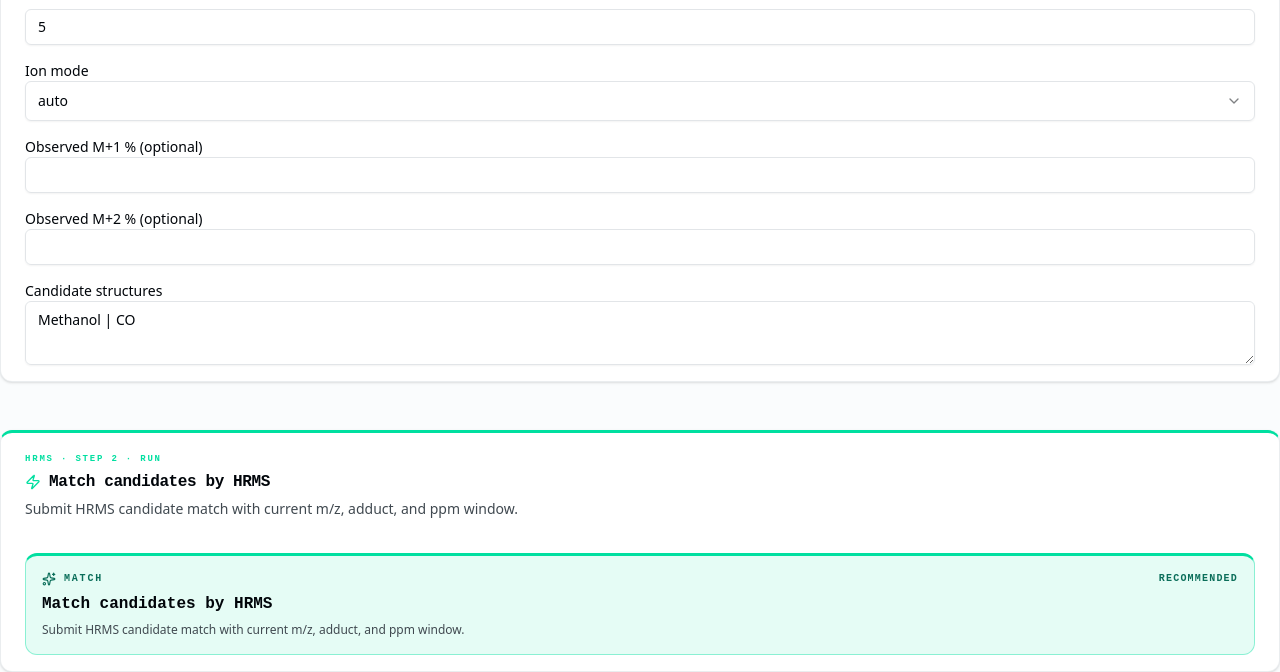
Test: SpectraCheckMsEvidence HRMS & formula › renders extended HRMS table from mocked response
(page scrolled)
Click the button "Match candidates by HRMS".
click(84, 578)  # box x1=25 y1=553 x2=1255 y2=655
(page scrolled)
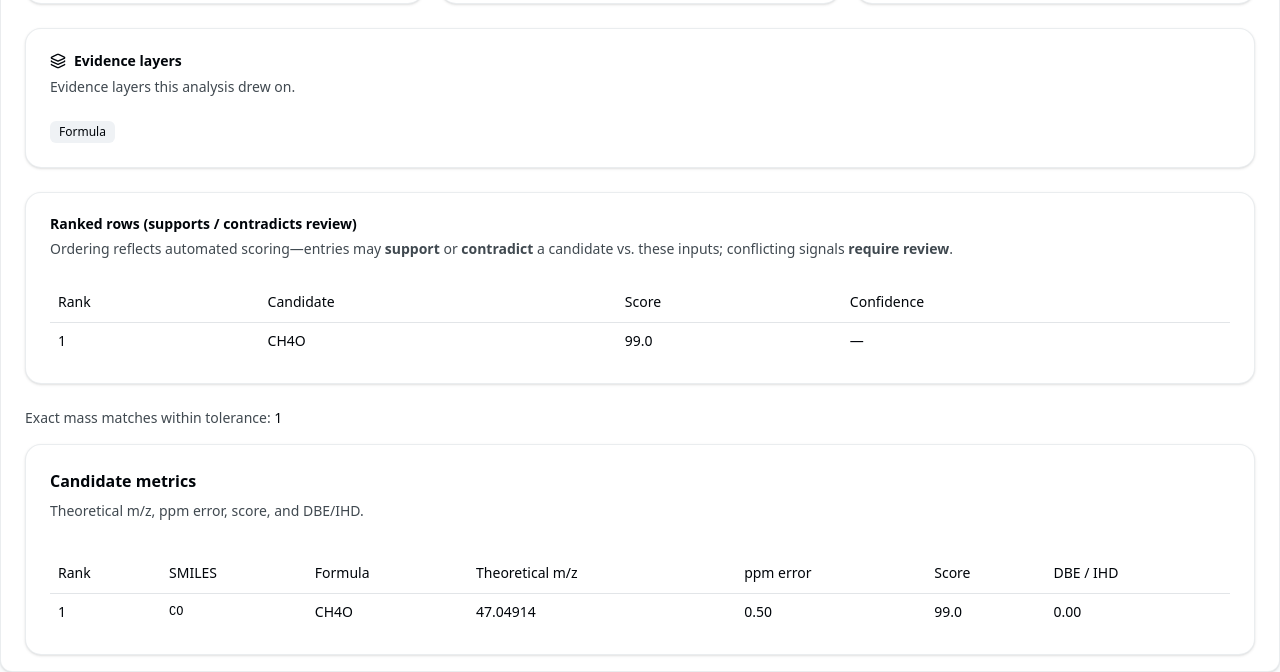
Now the text "Exact mass matches within tolerance:" is shown, box x1=25 y1=408 x2=271 y2=427
Now the text "Candidate metrics" is shown, box x1=50 y1=470 x2=196 y2=492
Now the text "CO" is shown, box x1=161 y1=593 x2=307 y2=630
